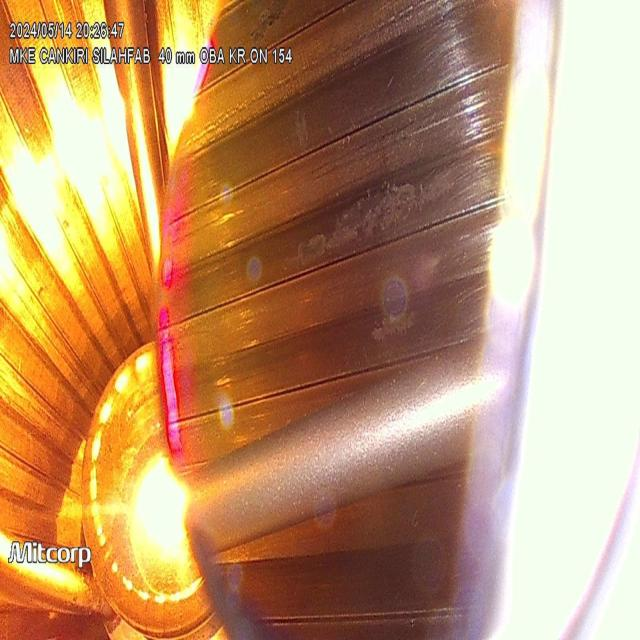hata_2.3: (307, 0, 435, 78), (223, 53, 301, 127), (185, 106, 221, 159)
hata_9.3: (272, 142, 459, 287), (249, 0, 293, 47), (285, 108, 316, 156)
